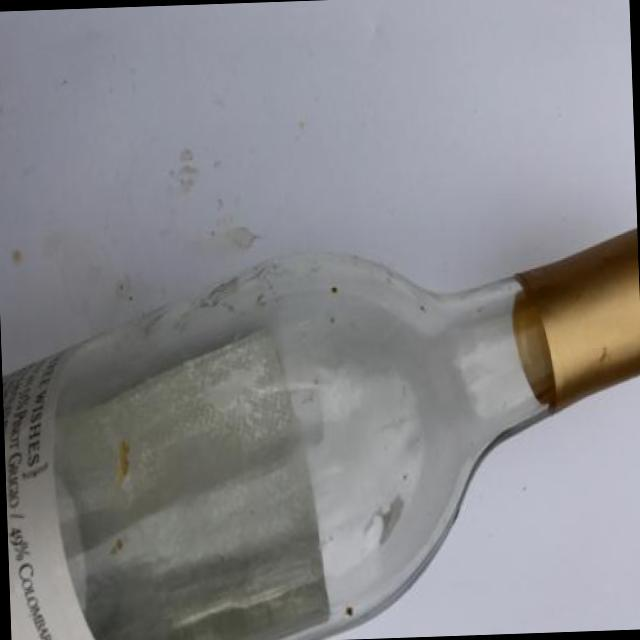chai_thuy_tinh: (2, 229, 640, 640)
